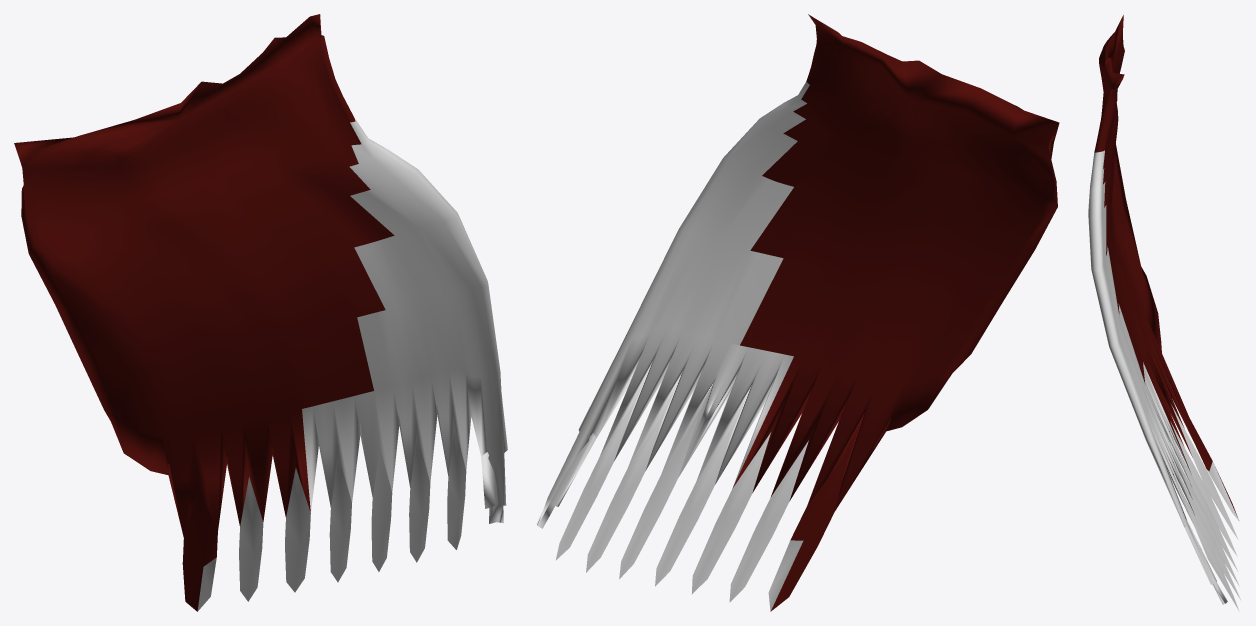
File: Wings-Right.obj
3 views of the same model, side by side, from view 1: azimuth 30°, elevation 25°; view 2: azimuth 150°, elevation 25°; view 3: azimuth 270°, elevation 25° (orthographic). The views are drawn at different scales.
Parts seen in each view (by area): view 1: Left_Wing, Left_Wing_Tip_Left_Wing.001; view 2: Left_Wing, Left_Wing_Tip_Left_Wing.001; view 3: Left_Wing_Tip_Left_Wing.001, Left_Wing.
Part boxes in pixels (box(x1,y1,x2,y2)): Left_Wing: box(14, 14, 394, 611); Left_Wing_Tip_Left_Wing.001: box(197, 118, 507, 611); Left_Wing: box(732, 14, 1059, 611); Left_Wing_Tip_Left_Wing.001: box(536, 81, 809, 611); Left_Wing_Tip_Left_Wing.001: box(1088, 150, 1240, 611); Left_Wing: box(1094, 15, 1237, 517).
Bounding box in the file's own units: 0.0443 × 0.0496 × 0.015.
